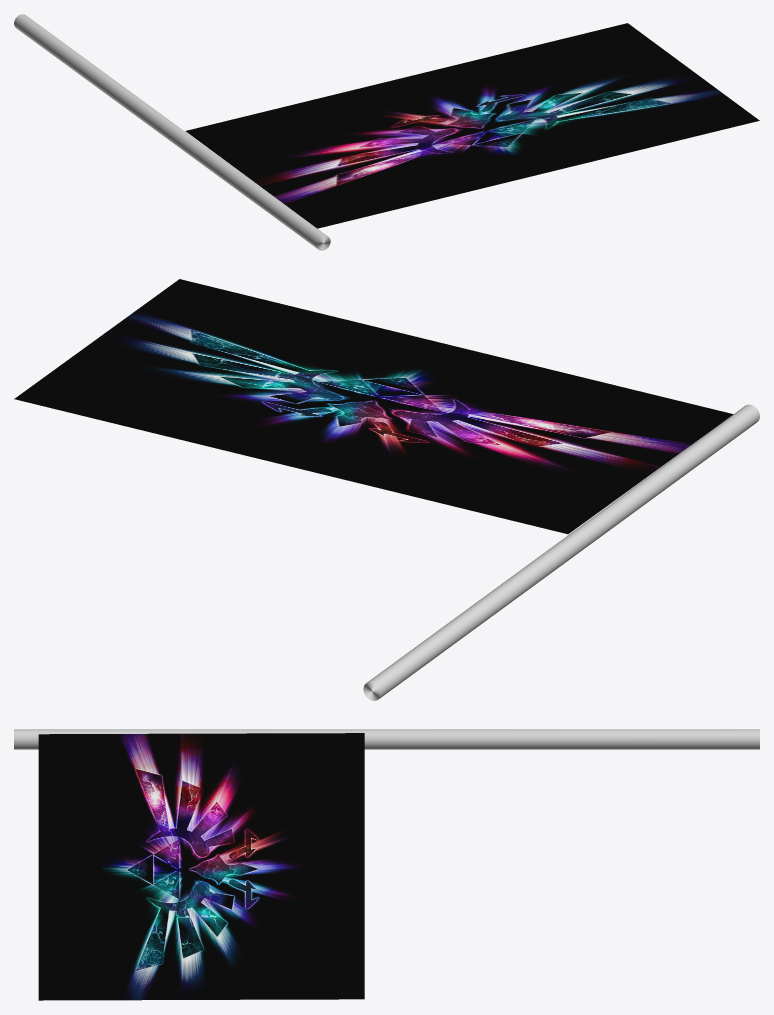
Rendered from flag.fbx.
The picture shows the model from 3 angles, top to bottom: view 1: azimuth 30°, elevation 25°; view 2: azimuth 150°, elevation 25°; view 3: azimuth 270°, elevation 25°; orthographic projection. The views are drawn at different scales.
Visible parts, largest first — view 1: Plane, Cylinder; view 2: Plane, Cylinder; view 3: Plane, Cylinder.
Boxes of the visible parts, <box> form: Plane: <box>185,23,759,228</box>; Cylinder: <box>14,14,330,250</box>; Plane: <box>14,279,733,534</box>; Cylinder: <box>363,404,759,700</box>; Plane: <box>38,733,364,1000</box>; Cylinder: <box>14,729,759,749</box>.
Bounding box in the file's own units: 3.96 × 0.1241 × 4.57.
Materials: 2 (2 with a texture image).
